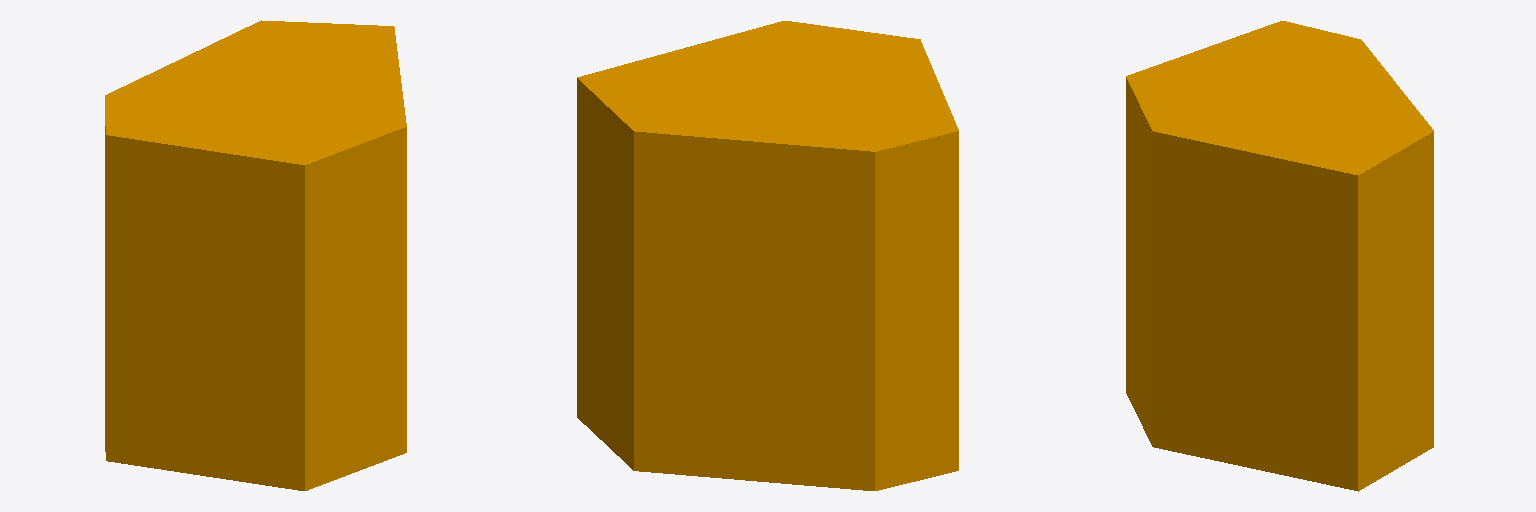
The robot description file, URDF, robot "object":
<?xml version="1.0"?>
<robot name="object">
  <link name="object">
    <visual>
      <origin xyz="0 0 0"/>
      <geometry>
        <mesh filename="meshes/generated/col_000.obj" scale="0.03 0.03 0.03"/>
      </geometry>
    </visual>
    <collision>
      <origin xyz="0 0 0"/>
      <geometry>
        <mesh filename="meshes/generated/col_000.obj" scale="0.03 0.03 0.03"/>
      </geometry>
    </collision>
    <inertial>
      <density value="1000.0"/>
    </inertial>
  </link>
</robot>

--- Render facts (derived) ---
3 views of the same robot in one strip: view 1: azimuth 30°, elevation 25°; view 2: azimuth 150°, elevation 25°; view 3: azimuth 270°, elevation 25° (orthographic).
Robot: object — 1 links, 0 joints (none); root link object; default pose: every joint at zero.
Links seen in each view (by area): view 1: object; view 2: object; view 3: object.
Link boxes in pixels (left/top/right/bottom): object: left=105, top=20, right=406, bottom=490; object: left=577, top=21, right=958, bottom=490; object: left=1126, top=21, right=1433, bottom=491.
Bounding box of the posed robot: 0.0632 × 0.0532 × 0.06 m (x, y, z).
Meshes: 1 distinct files referenced, 1 mesh visuals loaded (1 OBJ).
